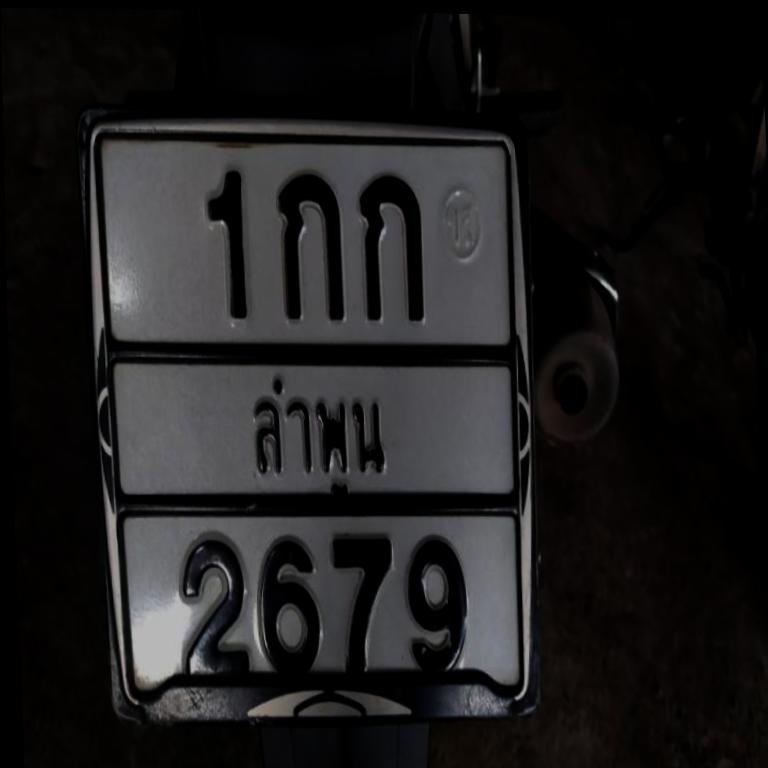license plate: (65, 89, 554, 743)
